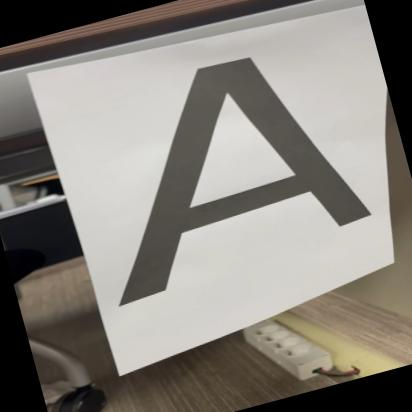seat: (55, 22, 384, 310)
